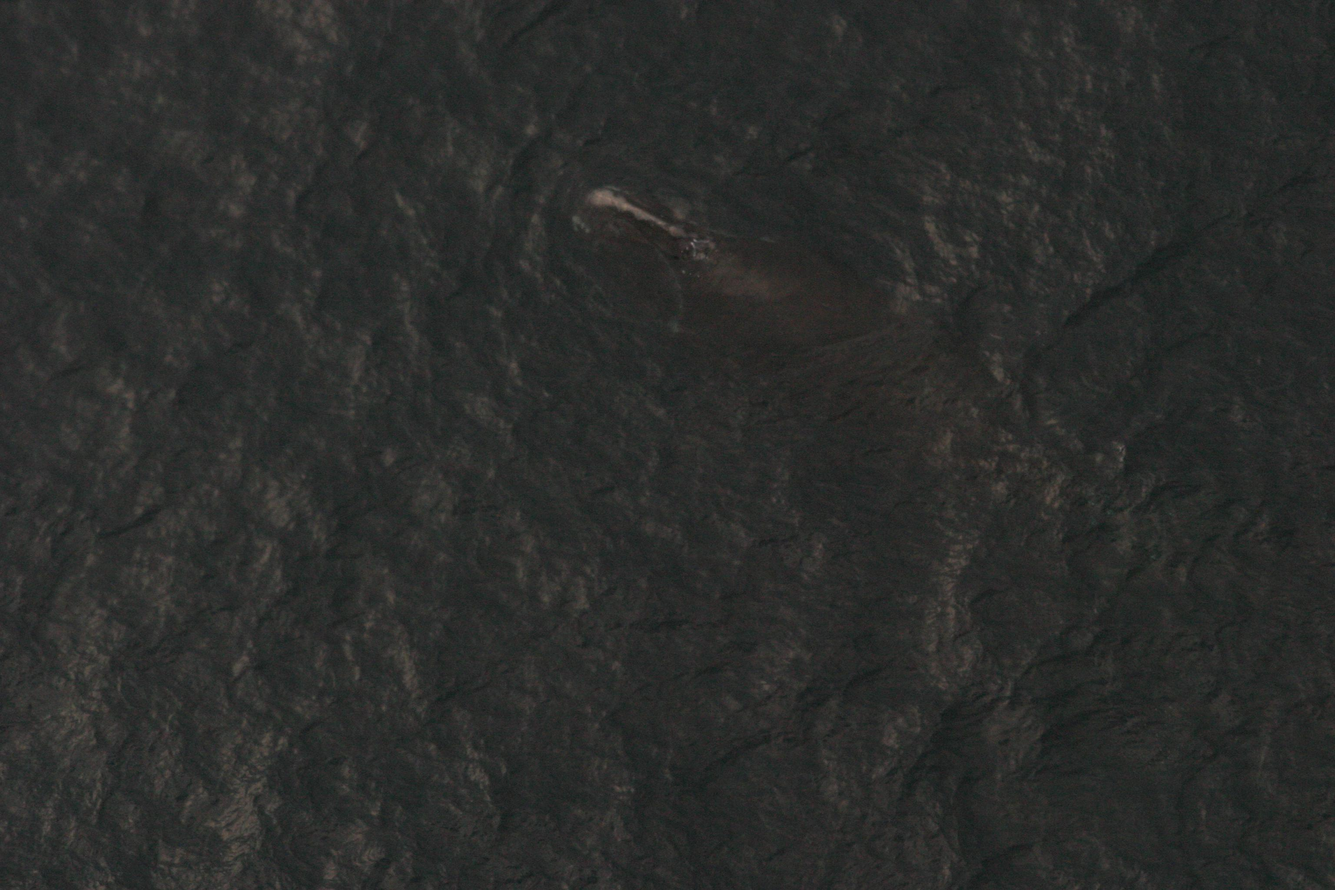whale: (561, 179, 1043, 425)
